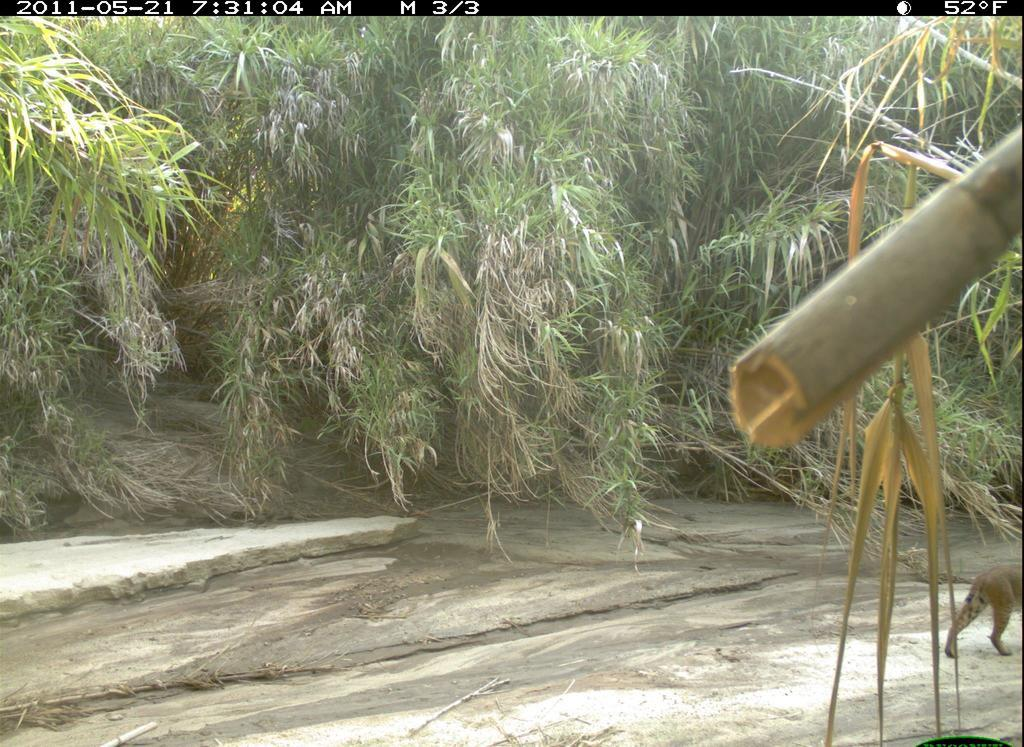bobcat: (939, 552, 1023, 661)
